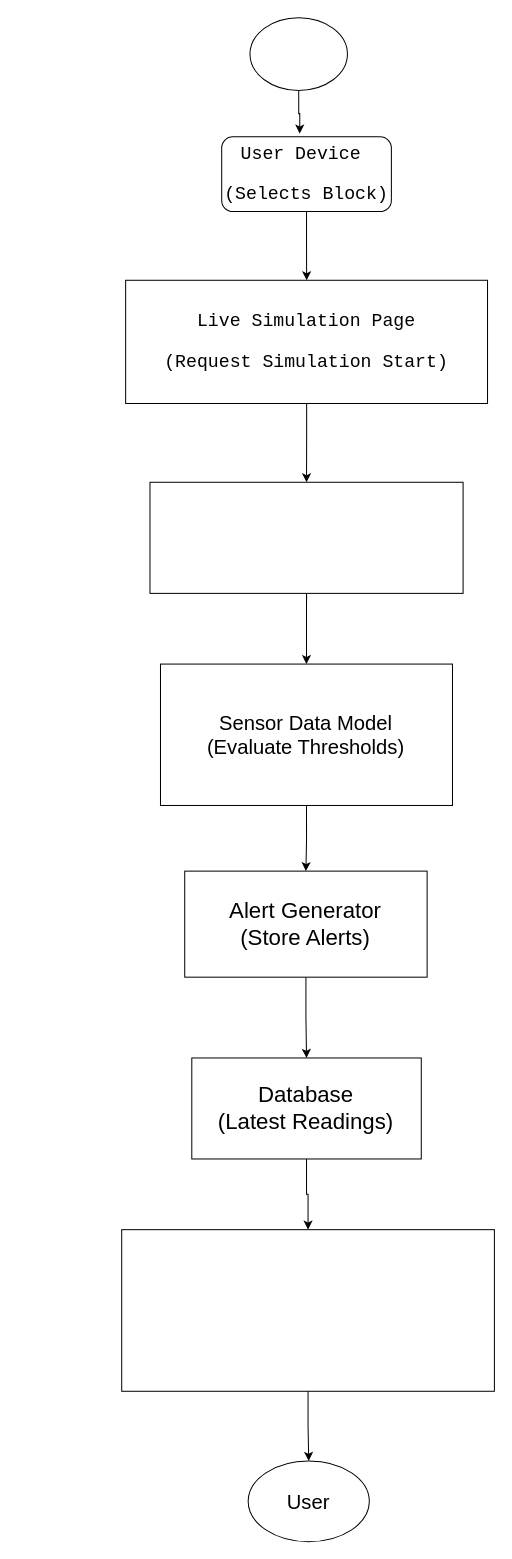
The diagram is 512 pixels wide and 1559 high, and some of its shapes have lost their labels. The shapes that lost their labels are listed below. From the top down, each one's centre as x and y in pixels, then its label:
At point (298, 53): "START".
At point (306, 537): "Block Simulator Service (Generate Environmental Data)".
At point (307, 1310): "Live UI Visualization ( Display Movement, Metrics, Status)".
